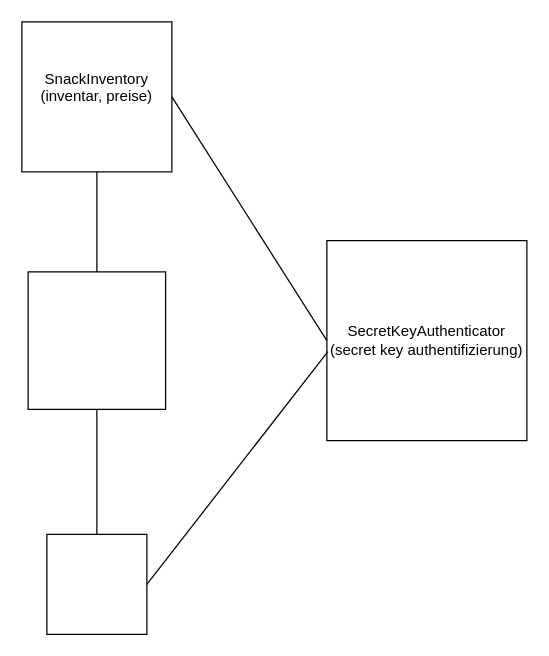
Image size: 549x656. Some labels were removed from this diagram. The centre of each missing label's shape, as x and y in pixels:
CLI (user interface): [96,583]
SnackMachine (preis logik): [96,340]
